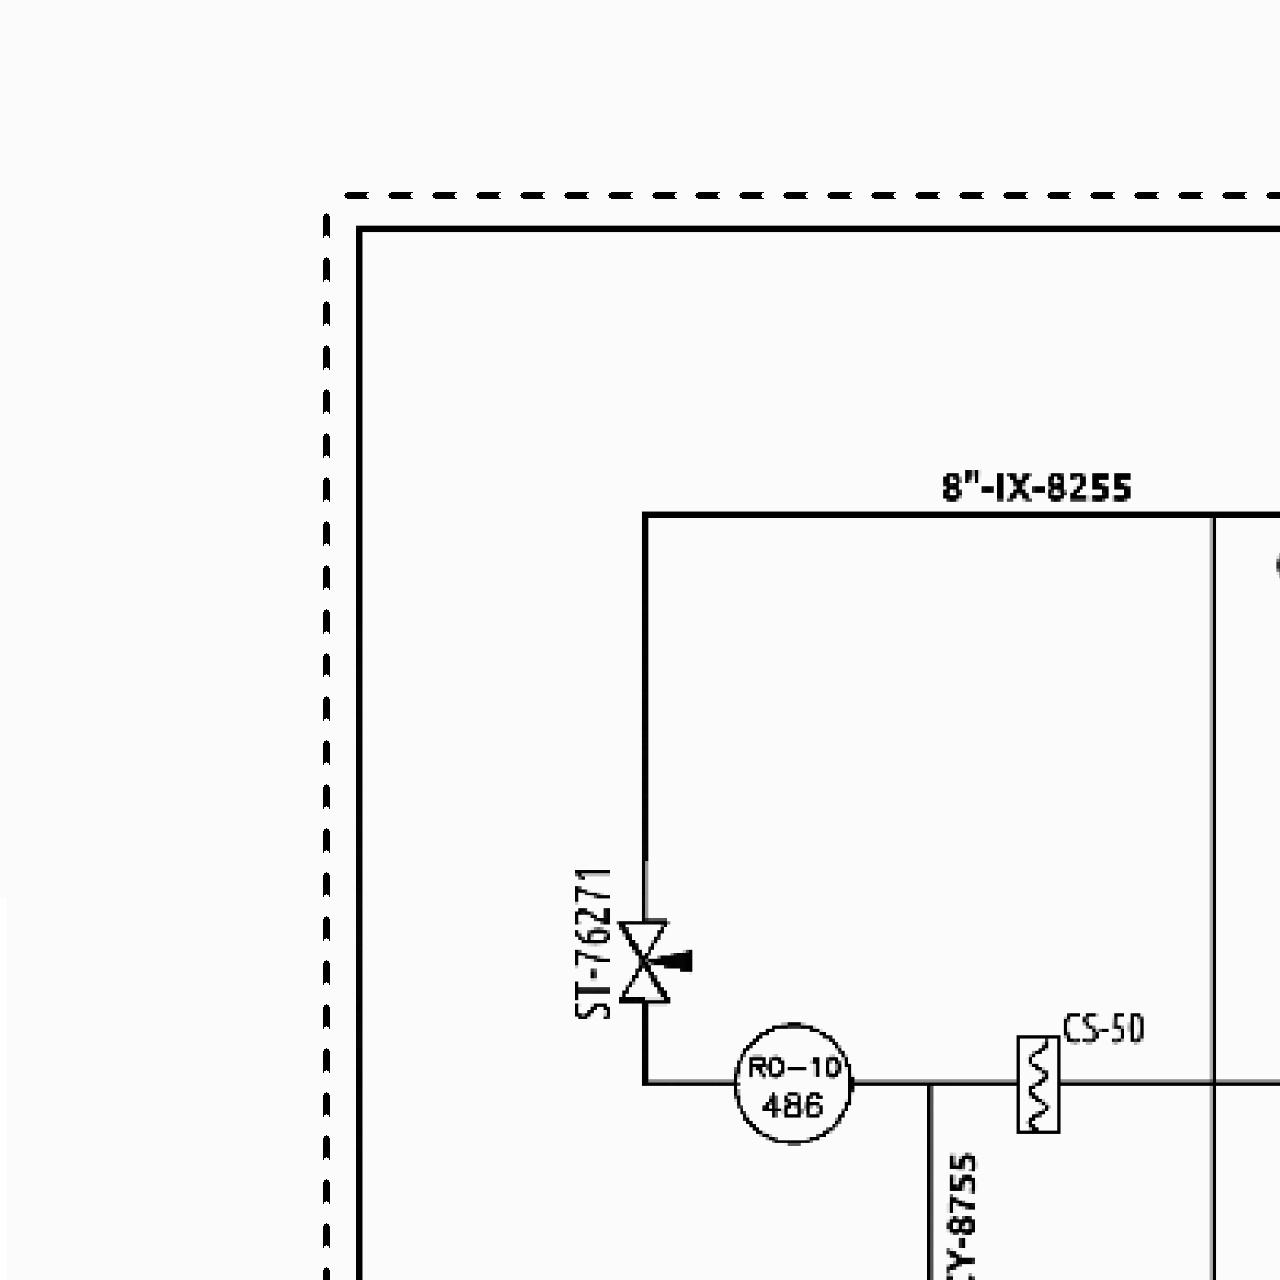Control-Panel: (727, 1017, 857, 1148)
